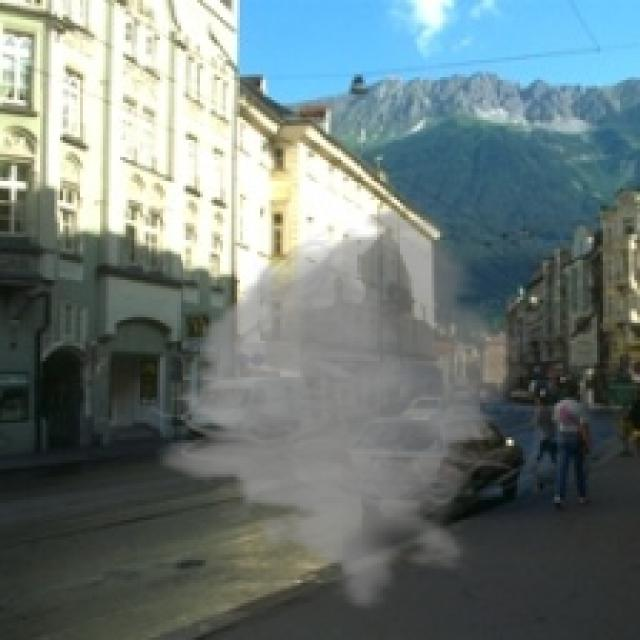smoke: (143, 206, 560, 611)
